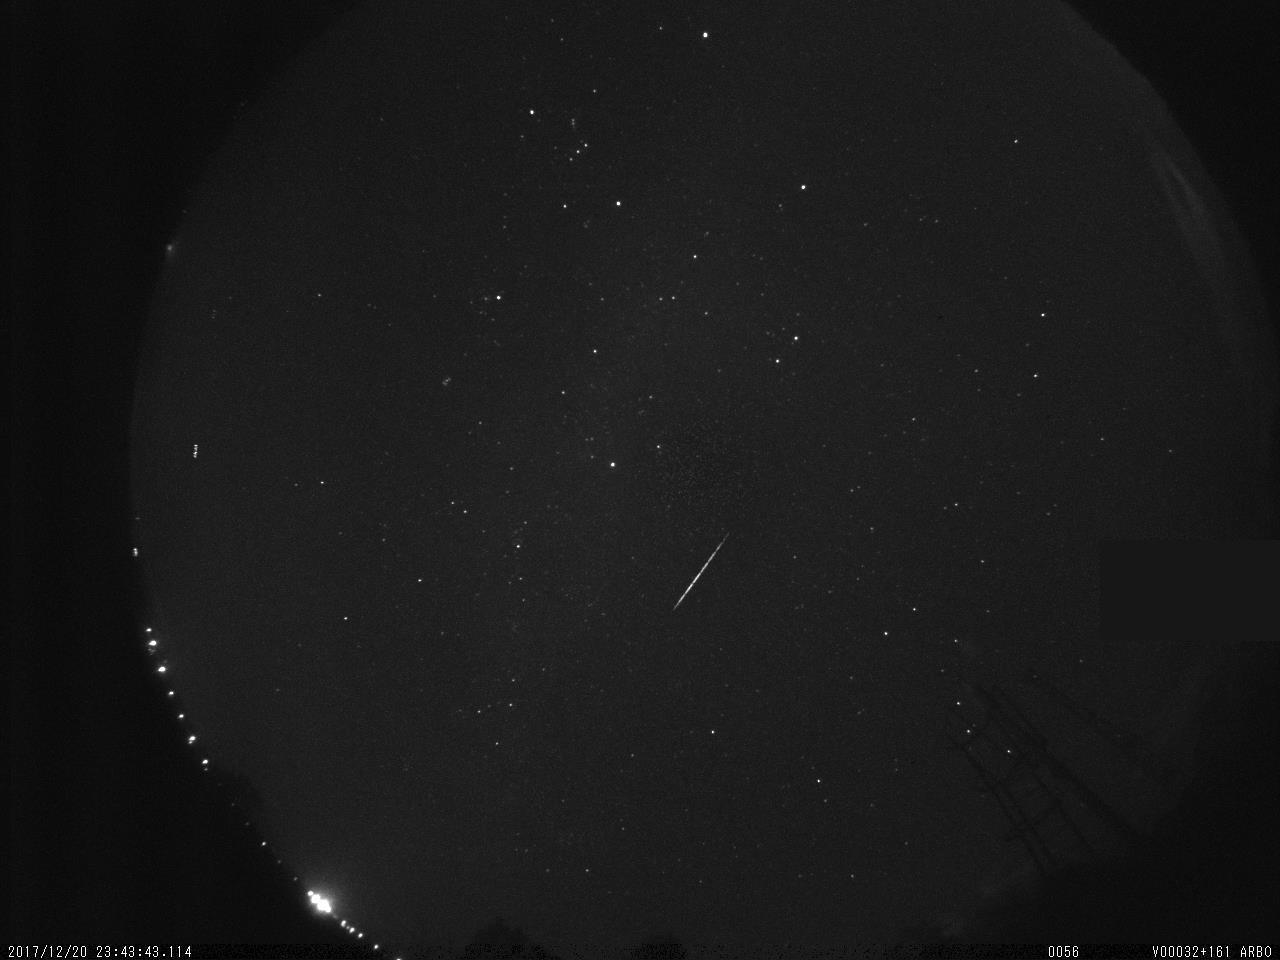meteor: (649, 523, 735, 628)
